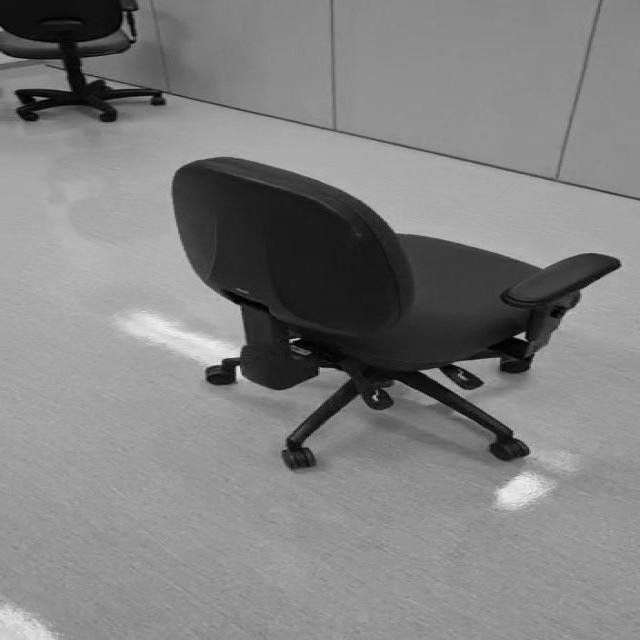cadeira-azul: (172, 156, 620, 469)
